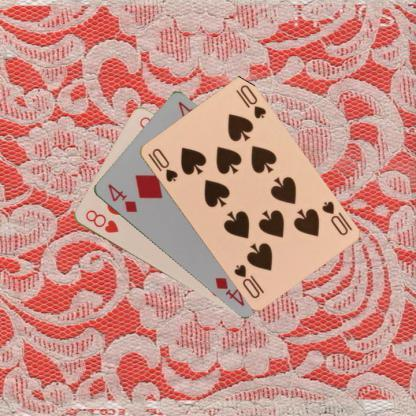10s: (318, 198, 349, 236), (149, 145, 179, 183)
4d: (105, 181, 138, 214)
8h: (82, 206, 120, 234)
